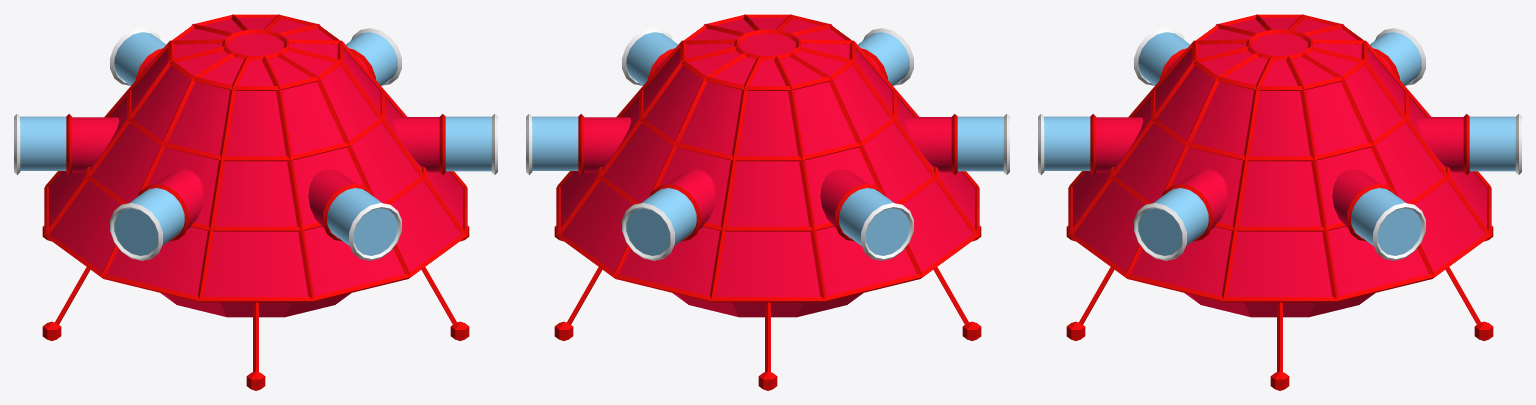
File: B_Serre.fbx
3 renders of one model, left to right at view 1: azimuth 30°, elevation 25°; view 2: azimuth 150°, elevation 25°; view 3: azimuth 270°, elevation 25°, orthographic.
Parts seen in each view (by area): view 1: B_Serre, Connexion (×6); view 2: B_Serre, Connexion (×6); view 3: B_Serre, Connexion (×6).
Part boxes in pixels (left/top/right/bottom): B_Serre: left=42, top=14, right=469, bottom=390; Connexion (×6): left=14, top=28, right=497, bottom=260; B_Serre: left=554, top=14, right=981, bottom=390; Connexion (×6): left=526, top=28, right=1009, bottom=260; B_Serre: left=1066, top=14, right=1493, bottom=390; Connexion (×6): left=1038, top=28, right=1521, bottom=260.
Bounding box in the file's own units: 791 × 445 × 785.
